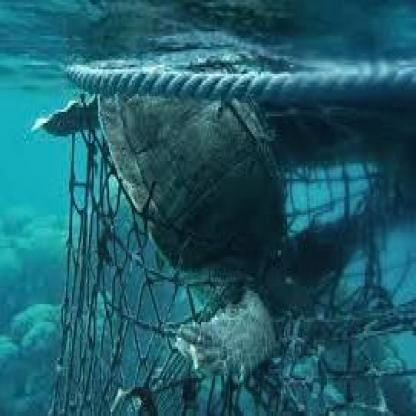net: (60, 65, 416, 416)
